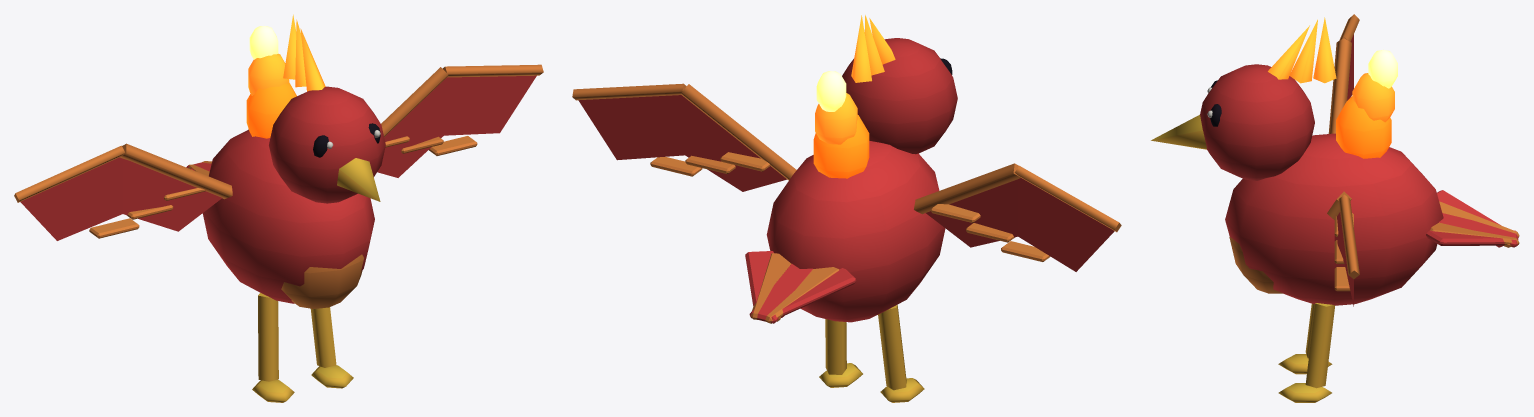
The model's file is monster_fire_finch.glb.
3 renders of one model, left to right at view 1: azimuth 30°, elevation 25°; view 2: azimuth 150°, elevation 25°; view 3: azimuth 270°, elevation 25°, orthographic. The views are drawn at different scales.
Parts seen in each view (by area): view 1: body_t0_bob2_palette, wingl_t0_palette, wingr_t0_palette, body_t0_bob2_fire, legl_t0_palette, legr_t0_palette, body_t0_bob2_lava, body_t0_bob2_glow_gold; view 2: body_t0_bob2_palette, wingr_t0_palette, wingl_t0_palette, tail_t0_palette, body_t0_bob2_fire, legl_t0_palette, body_t0_bob2_lava, legr_t0_palette, body_t0_bob2_glow_gold; view 3: body_t0_bob2_palette, body_t0_bob2_fire, tail_t0_palette, legr_t0_palette, body_t0_bob2_lava, wingr_t0_palette, wingl_t0_palette, body_t0_bob2_glow_gold, legl_t0_palette.
Boxes of the visible parts, x1=… form: body_t0_bob2_palette: x1=202, y1=86, x2=385, y2=308; wingl_t0_palette: x1=14, y1=143, x2=232, y2=240; wingr_t0_palette: x1=377, y1=64, x2=543, y2=177; body_t0_bob2_fire: x1=248, y1=14, x2=325, y2=95; legl_t0_palette: x1=252, y1=293, x2=294, y2=402; legr_t0_palette: x1=310, y1=307, x2=353, y2=388; body_t0_bob2_lava: x1=246, y1=83, x2=296, y2=138; body_t0_bob2_glow_gold: x1=249, y1=25, x2=278, y2=59; body_t0_bob2_palette: x1=766, y1=38, x2=957, y2=322; wingr_t0_palette: x1=572, y1=83, x2=796, y2=191; wingl_t0_palette: x1=914, y1=163, x2=1121, y2=271; tail_t0_palette: x1=745, y1=251, x2=856, y2=323; body_t0_bob2_fire: x1=815, y1=15, x2=895, y2=144; legl_t0_palette: x1=878, y1=304, x2=924, y2=402; body_t0_bob2_lava: x1=813, y1=115, x2=869, y2=178; legr_t0_palette: x1=819, y1=319, x2=862, y2=387; body_t0_bob2_glow_gold: x1=816, y1=71, x2=846, y2=111; body_t0_bob2_palette: x1=1151, y1=64, x2=1443, y2=305; body_t0_bob2_fire: x1=1268, y1=17, x2=1394, y2=122; tail_t0_palette: x1=1426, y1=190, x2=1519, y2=247; legr_t0_palette: x1=1278, y1=303, x2=1334, y2=402; body_t0_bob2_lava: x1=1336, y1=96, x2=1391, y2=158; wingr_t0_palette: x1=1327, y1=191, x2=1359, y2=306; wingl_t0_palette: x1=1328, y1=14, x2=1359, y2=133; body_t0_bob2_glow_gold: x1=1368, y1=49, x2=1397, y2=88; legl_t0_palette: x1=1278, y1=303, x2=1332, y2=374.
Size of the model in its own units: 0.6229 by 0.418 by 0.379.
